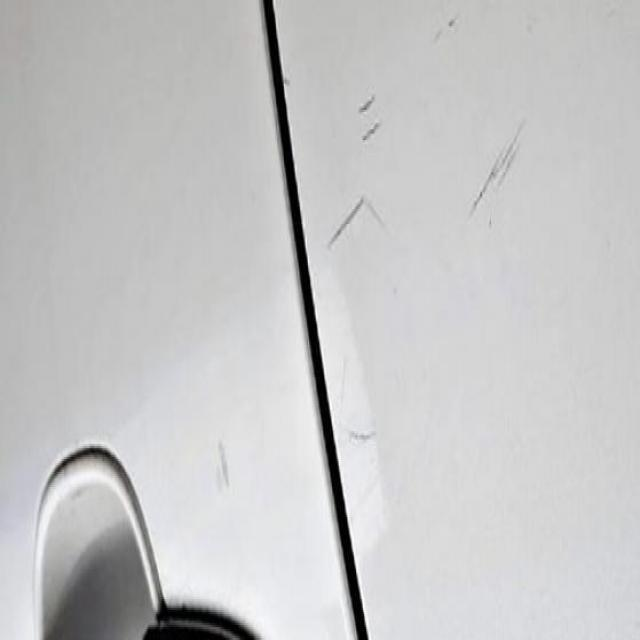scratch: (460, 112, 537, 239), (318, 180, 377, 273), (353, 80, 384, 154)
